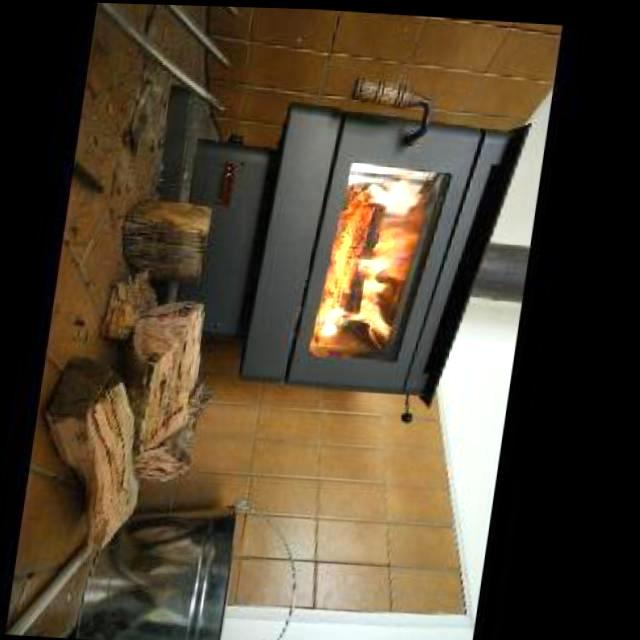fire: (324, 182, 428, 356)
